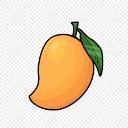mango: (28, 34, 96, 110)
